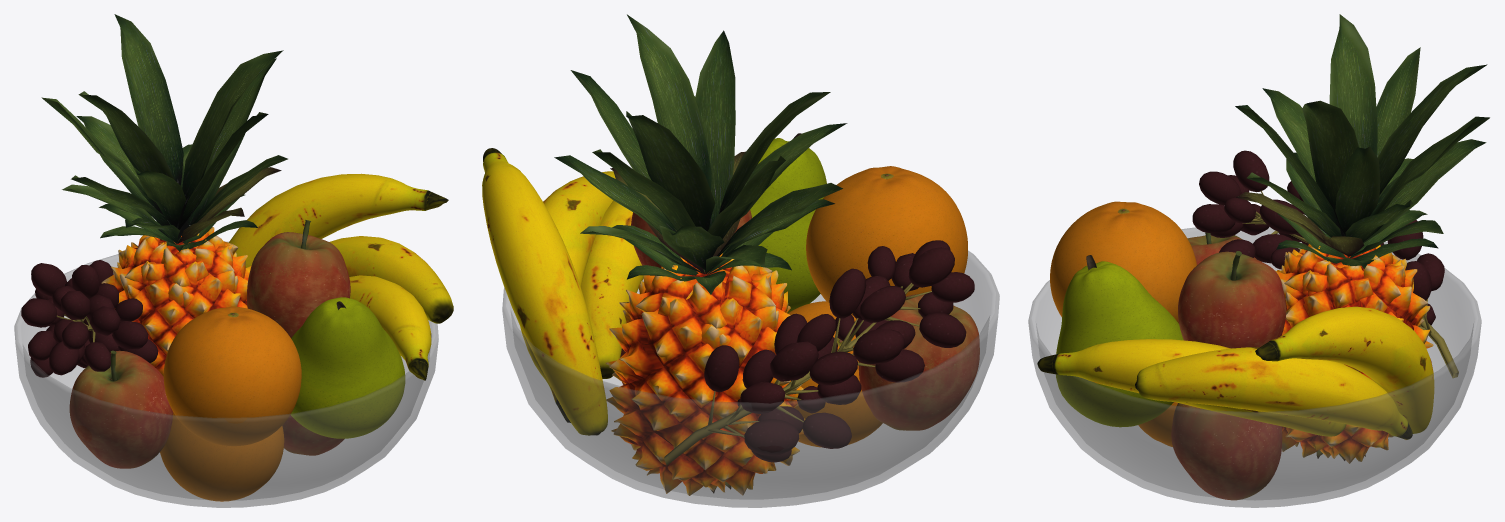
3 renders of one model, left to right at view 1: azimuth 30°, elevation 25°; view 2: azimuth 150°, elevation 25°; view 3: azimuth 270°, elevation 25°, orthographic. The views are drawn at different scales.
Visible parts, largest first — view 1: pineapple.001, glass_2, orange, pear, glass_1, grapes, apple, banana.002, apple.002, orange.001, banana.001, banana (+1 smaller); view 2: pineapple.001, glass_2, grapes, banana.002, glass_1, orange, apple, banana, pear, banana.001, orange.001, apple.002; view 3: glass_2, pineapple.001, glass_1, banana.001, pear, banana.002, orange, grapes, apple.002, apple.001, banana, orange.001 (+1 smaller).
Part boxes in pixels (bbox=[...]): pineapple.001: bbox=[41, 14, 287, 376]; glass_2: bbox=[14, 241, 438, 507]; orange: bbox=[163, 306, 301, 446]; pear: bbox=[290, 297, 405, 438]; glass_1: bbox=[18, 255, 434, 500]; grapes: bbox=[21, 260, 158, 377]; apple: bbox=[69, 350, 173, 468]; banana.002: bbox=[229, 173, 448, 267]; apple.002: bbox=[247, 220, 350, 337]; orange.001: bbox=[160, 413, 284, 501]; banana.001: bbox=[329, 236, 453, 323]; banana: bbox=[349, 275, 431, 380]; pineapple.001: bbox=[554, 14, 847, 495]; glass_2: bbox=[502, 250, 999, 507]; grapes: bbox=[664, 240, 974, 465]; banana.002: bbox=[482, 148, 607, 435]; glass_1: bbox=[506, 252, 995, 499]; orange: bbox=[806, 166, 967, 314]; apple: bbox=[858, 294, 979, 430]; banana: bbox=[581, 200, 643, 378]; pear: bbox=[750, 133, 826, 313]; banana.001: bbox=[520, 171, 615, 422]; orange.001: bbox=[788, 301, 882, 447]; apple.002: bbox=[631, 210, 751, 267]; glass_2: bbox=[1028, 227, 1481, 507]; pineapple.001: bbox=[1235, 14, 1489, 463]; glass_1: bbox=[1032, 227, 1477, 499]; banana.001: bbox=[1135, 347, 1412, 439]; pear: bbox=[1056, 255, 1183, 427]; banana.002: bbox=[1255, 306, 1434, 433]; orange: bbox=[1050, 201, 1196, 323]; grapes: bbox=[1192, 150, 1458, 378]; apple.002: bbox=[1178, 251, 1286, 348]; apple.001: bbox=[1171, 403, 1282, 500]; banana: bbox=[1037, 339, 1345, 436]; orange.001: bbox=[1138, 402, 1177, 446].
Bounding box in the file's own units: 9.53 × 8.55 × 8.76.
10 materials, 8 textured.
